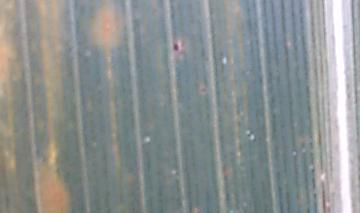tarspot: (198, 84, 207, 94), (172, 41, 180, 52)
